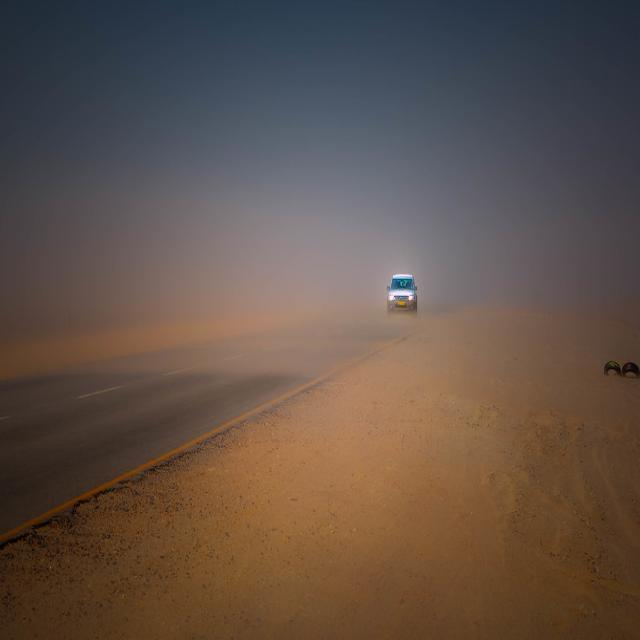car: (386, 274, 418, 312)
